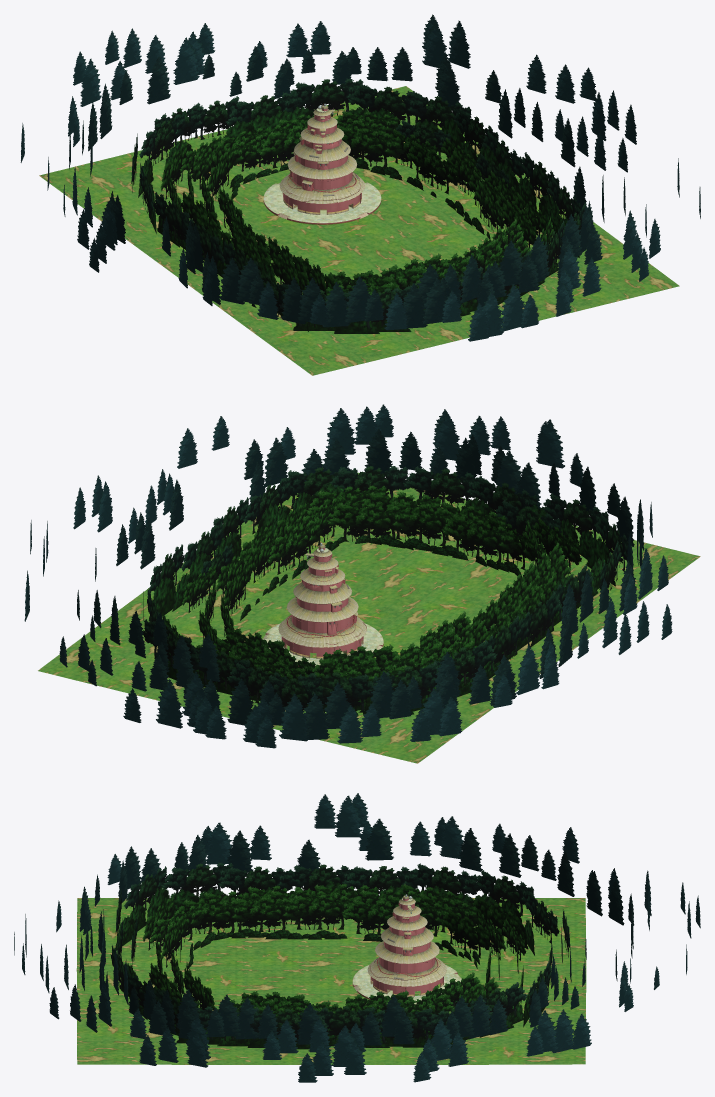
3 views of the same model, one above another, from view 1: azimuth 30°, elevation 25°; view 2: azimuth 150°, elevation 25°; view 3: azimuth 270°, elevation 25° (orthographic). The views are drawn at different scales.
Parts seen in each view (by area): view 1: sm01bb_bac003, sm01bb_bac004, sm01bb_flo000, sm01bb_obj000, sm01bb_bac005; view 2: sm01bb_bac004, sm01bb_bac003, sm01bb_flo000, sm01bb_bac005, sm01bb_obj000; view 3: sm01bb_bac003, sm01bb_bac004, sm01bb_flo000, sm01bb_bac005, sm01bb_obj000.
Part boxes in pixels (<box>): sm01bb_bac003: <box>20,14,700,341</box>; sm01bb_bac004: <box>131,78,587,330</box>; sm01bb_flo000: <box>39,86,679,375</box>; sm01bb_obj000: <box>263,103,381,224</box>; sm01bb_bac005: <box>138,106,579,333</box>; sm01bb_bac004: <box>142,465,628,712</box>; sm01bb_bac003: <box>24,404,672,748</box>; sm01bb_flo000: <box>38,464,700,763</box>; sm01bb_bac005: <box>148,483,615,715</box>; sm01bb_obj000: <box>262,543,383,666</box>; sm01bb_bac003: <box>14,793,700,1082</box>; sm01bb_bac004: <box>110,862,570,1044</box>; sm01bb_flo000: <box>76,898,586,1064</box>; sm01bb_bac005: <box>115,881,545,1049</box>; sm01bb_obj000: <box>352,894,461,1004</box>.
Size of the model in its own units: 423 by 72.41 by 485.
11 materials, 11 textured.
